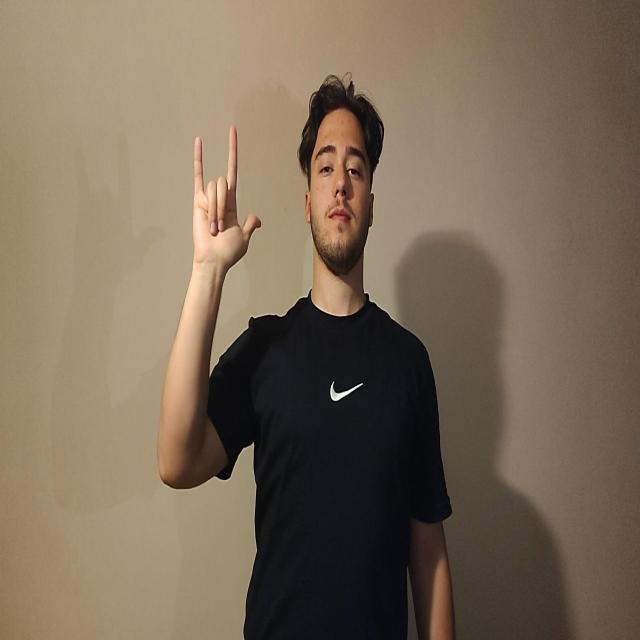iloveyou: (192, 124, 262, 277)
